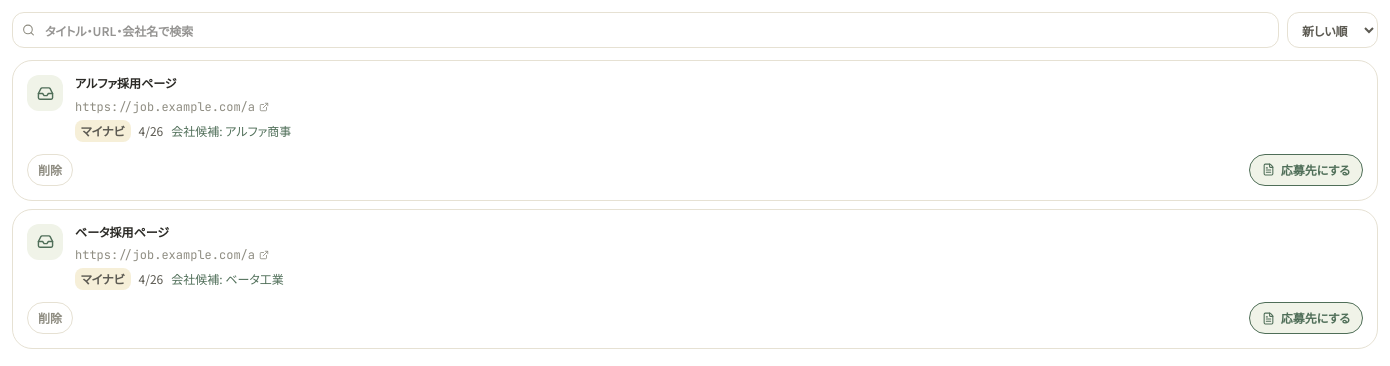
Test case: InboxList › 検索するとタイトル・URL・会社候補に一致する行だけ残る
The image size is (1390, 366).
Expected: the number of list items is 2, [12, 60, 1378, 200]; [12, 208, 1378, 349]
Type "ベータ" into the search field with placeholder "タイトル・URL・会社名で検索". click: (646, 30)
box: [12, 12, 1279, 48]
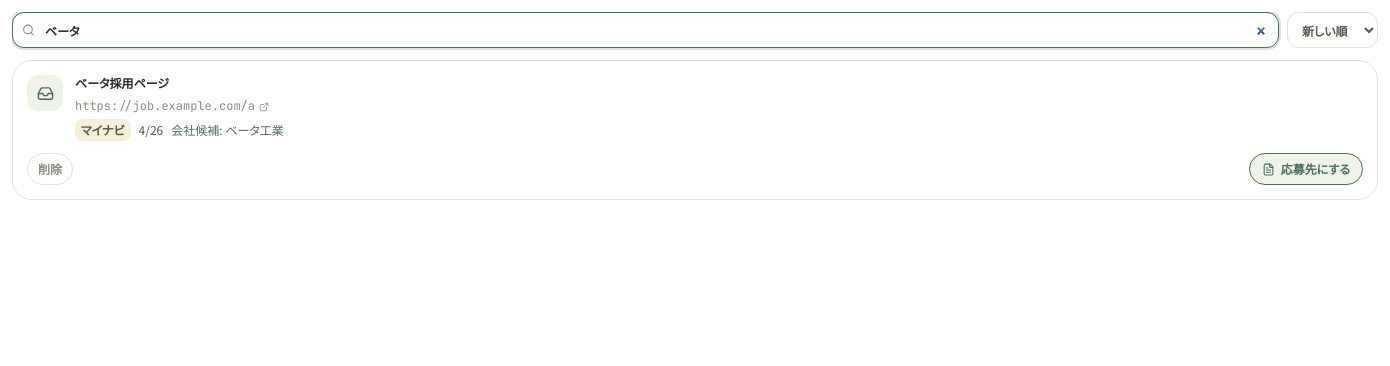
Expected: the text "ベータ採用ページ" is shown, [75, 74, 169, 91]
Expected: the number of list items is 1, [12, 60, 1378, 200]
Expected: the text "アルファ採用ページ" is gone
